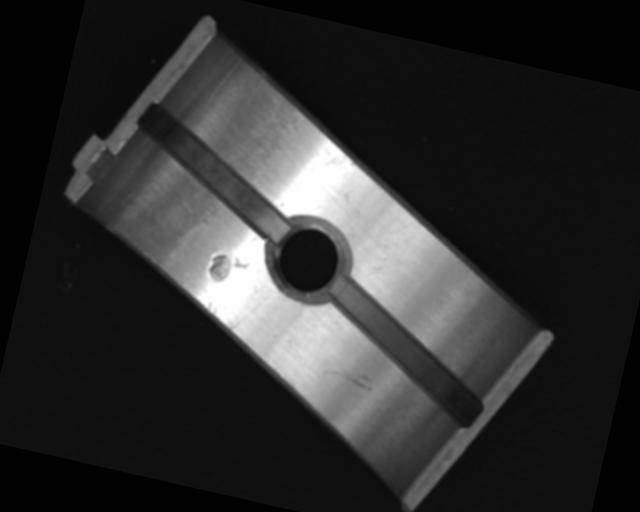bruise: (205, 250, 251, 289)
gap: (309, 274, 499, 429), (119, 102, 308, 243)
hole: (262, 211, 353, 309)
nick: (316, 361, 376, 394)
